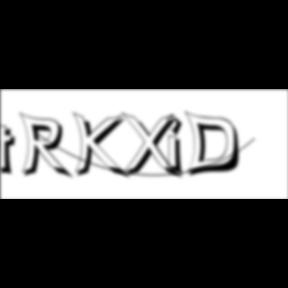D: (184, 110, 246, 180)
K: (73, 110, 132, 182)
R: (20, 112, 76, 182)
X: (121, 112, 185, 182)
i: (166, 112, 190, 180)
t: (1, 124, 23, 179)
